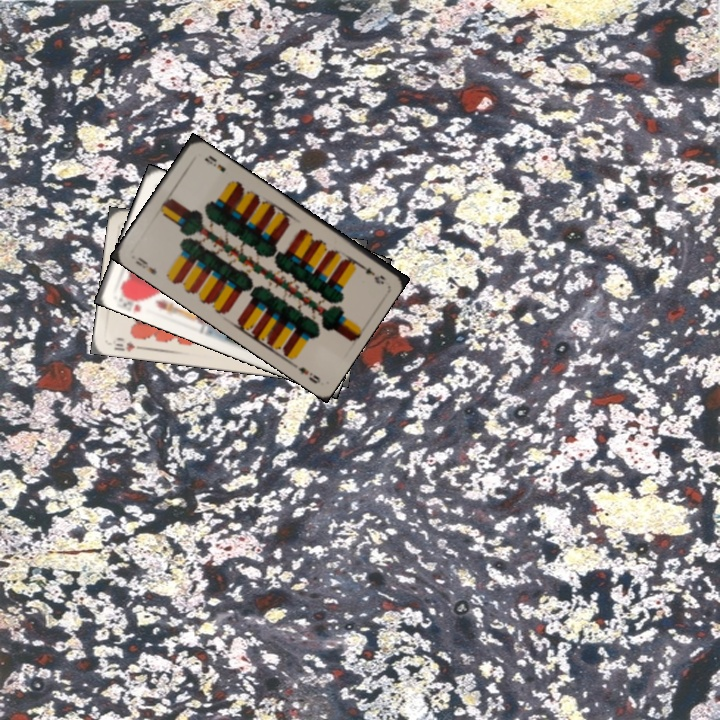E9: (351, 257, 389, 287), (131, 253, 159, 277)
H10: (110, 333, 147, 354)
HK: (118, 287, 146, 315)
